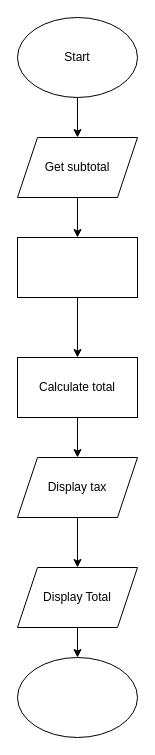
This 155x755 diagram has some shape labels left out. Each missing label, with the centre of its shape:
"Calculate HST" goes at point (77, 267).
"End" goes at point (77, 697).
